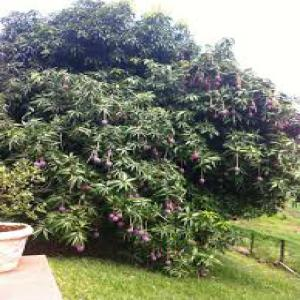Tree: (2, 1, 298, 274)
